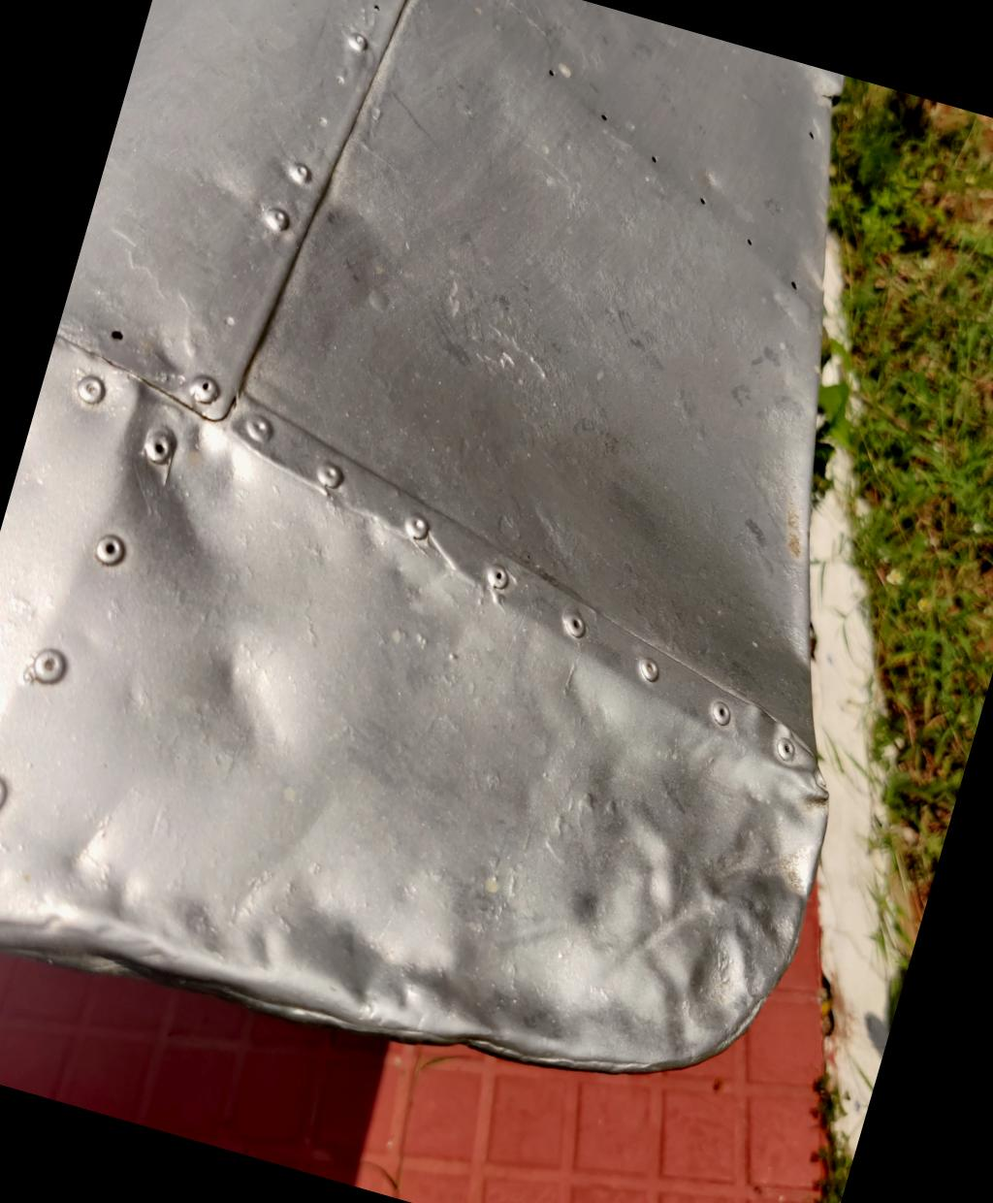dent: (0, 741, 579, 1120), (501, 707, 861, 1084), (75, 374, 288, 623), (145, 586, 353, 814), (2, 381, 73, 534)
